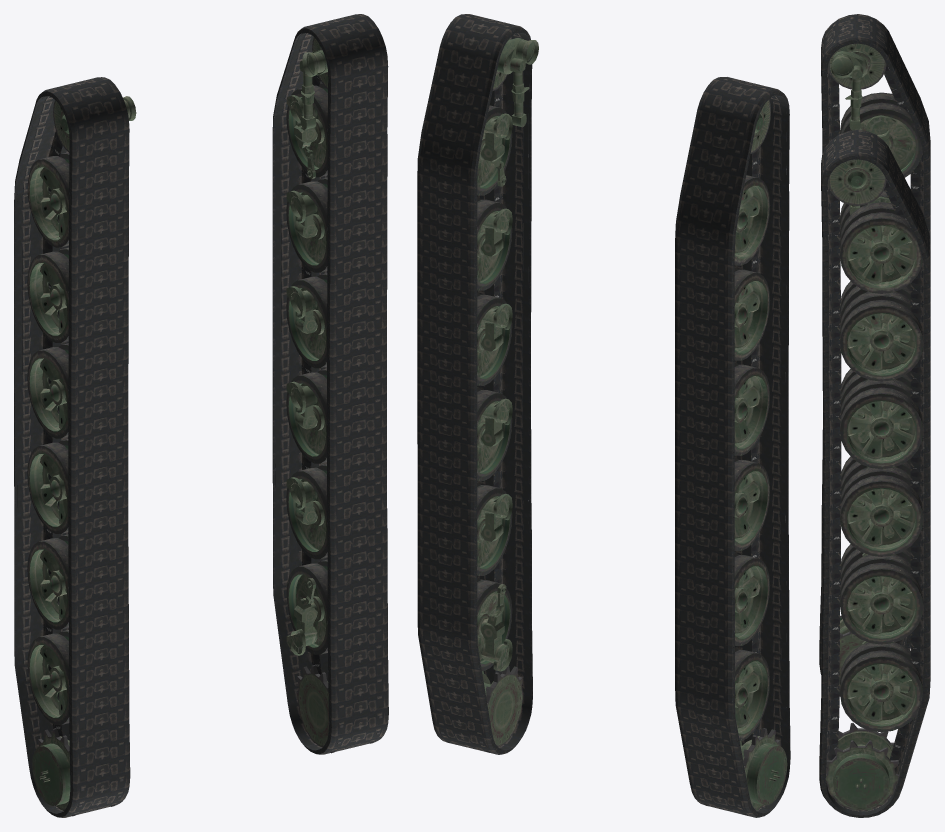
The model's file is Chassis.glb.
The picture shows the model from 3 angles, left to right: view 1: azimuth 30°, elevation 25°; view 2: azimuth 150°, elevation 25°; view 3: azimuth 270°, elevation 25°; orthographic projection. The views are drawn at different scales.
Parts seen in each view (by area): view 1: set_0_group_0, set_1_group_0, set_2_group_0, set_3_group_0; view 2: set_0_group_0, set_1_group_0, set_3_group_0, set_2_group_0; view 3: set_3_group_0, set_1_group_0, set_2_group_0, set_0_group_0.
Boxes of the visible parts, <box> form: set_0_group_0: <box>14,77,130,817</box>; set_1_group_0: <box>272,14,388,754</box>; set_2_group_0: <box>27,96,136,816</box>; set_3_group_0: <box>286,37,382,753</box>; set_0_group_0: <box>675,77,790,817</box>; set_1_group_0: <box>417,14,532,754</box>; set_3_group_0: <box>441,37,538,752</box>; set_2_group_0: <box>699,99,787,815</box>; set_3_group_0: <box>826,159,923,810</box>; set_1_group_0: <box>819,130,930,817</box>; set_2_group_0: <box>828,43,922,688</box>; set_0_group_0: <box>819,14,930,696</box>.
Size of the model in its own units: 3.45 by 7.13 by 1.08.
Materials: 4 (4 with a texture image).
